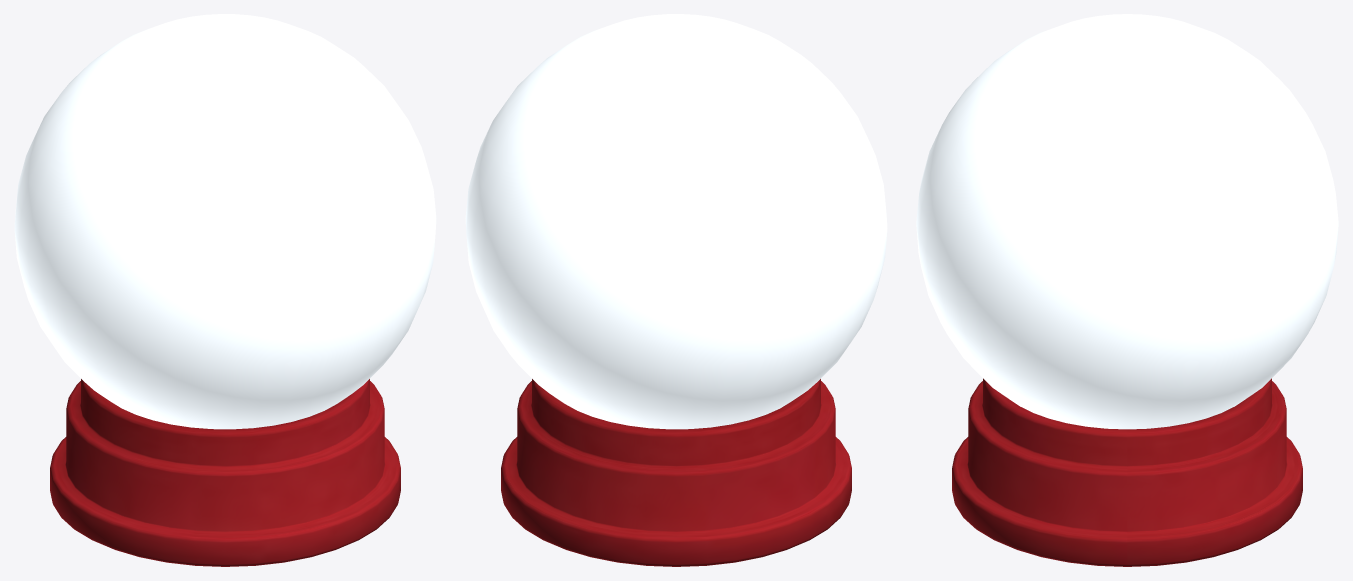
File: ChristmasSnowGlobe.glb
3 views of the same model, side by side, from view 1: azimuth 30°, elevation 25°; view 2: azimuth 150°, elevation 25°; view 3: azimuth 270°, elevation 25° (orthographic).
Parts seen in each view (by area): view 1: GlassDome, LacquerBase; view 2: GlassDome, LacquerBase; view 3: GlassDome, LacquerBase.
Part boxes in pixels (bbox=[...]): GlassDome: bbox=[14, 14, 436, 429]; LacquerBase: bbox=[50, 379, 400, 566]; GlassDome: bbox=[465, 14, 887, 429]; LacquerBase: bbox=[501, 379, 851, 566]; GlassDome: bbox=[916, 14, 1338, 429]; LacquerBase: bbox=[952, 378, 1302, 566].
Size of the model in its own units: 2.26 by 2.72 by 2.26.
Materials: 6 (6 with a texture image).
